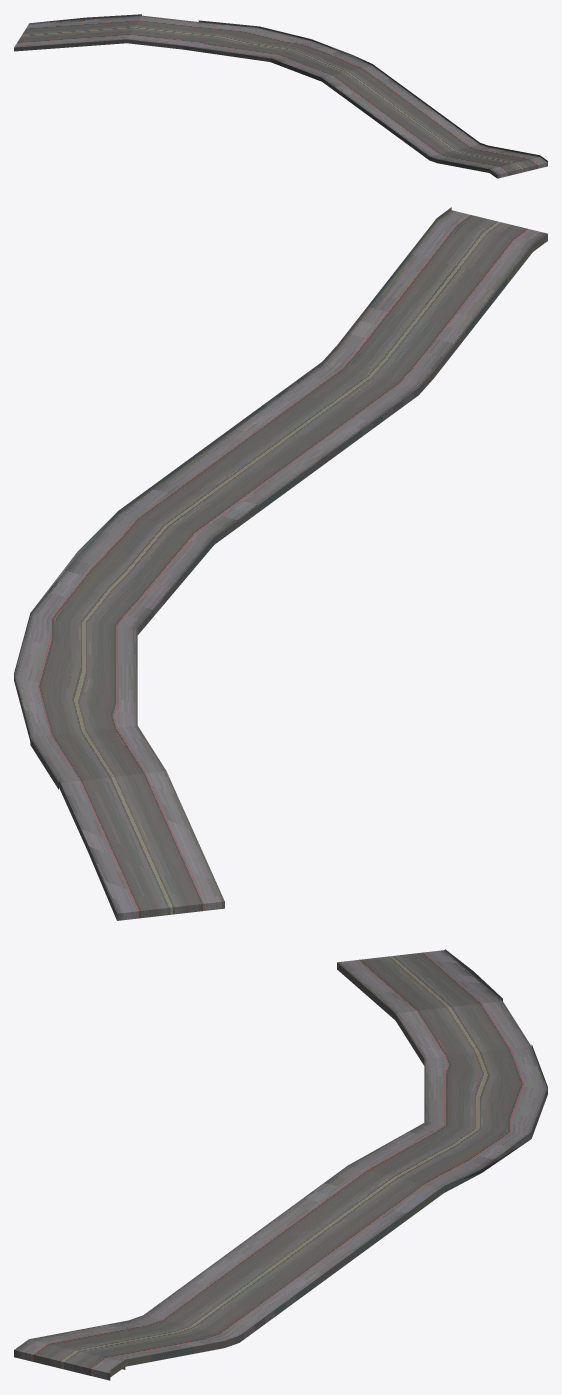
The model's file is lodroads_sfw36.obj.
3 renders of one model, top to bottom at view 1: azimuth 30°, elevation 25°; view 2: azimuth 150°, elevation 25°; view 3: azimuth 330°, elevation 25°, orthographic. The views are drawn at different scales.
Visible parts, largest first — view 1: LODroads_sfw36; view 2: LODroads_sfw36; view 3: LODroads_sfw36.
Part boxes in pixels (left/top/right/bottom): LODroads_sfw36: left=14, top=14, right=547, bottom=178; LODroads_sfw36: left=14, top=207, right=547, bottom=920; LODroads_sfw36: left=14, top=949, right=547, bottom=1380.
Size of the model in its own units: 82.06 by 29.85 by 238.
1 material, 1 textured.
